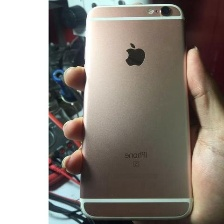phone: (77, 1, 197, 223)
